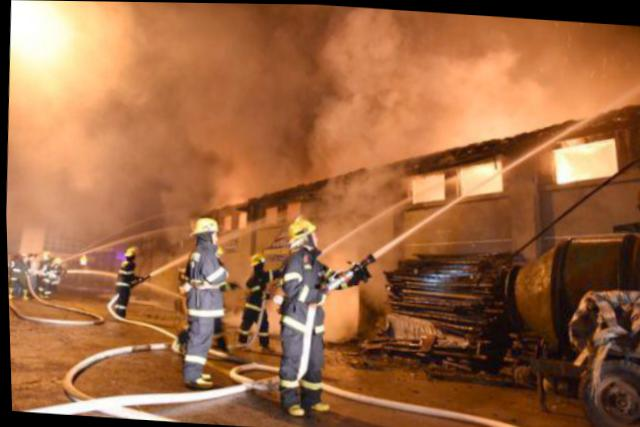smoke: (289, 5, 391, 161), (395, 36, 518, 124), (174, 116, 267, 210)
